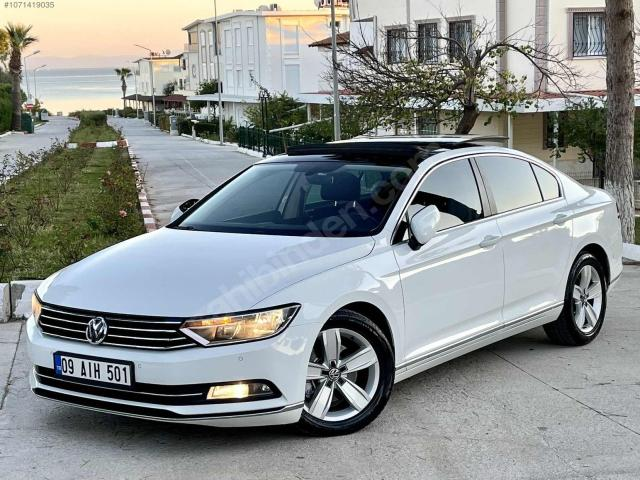plaka: (54, 352, 134, 388)
